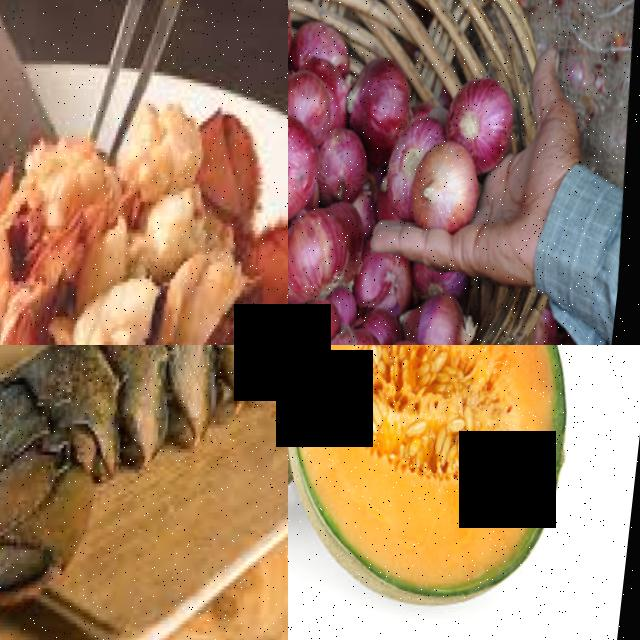lobster tails: (0, 345, 288, 640), (0, 91, 288, 345)
melon: (295, 345, 604, 616)
onion: (414, 133, 489, 230), (288, 197, 360, 297), (448, 66, 529, 149), (346, 47, 416, 142), (288, 109, 330, 218)
